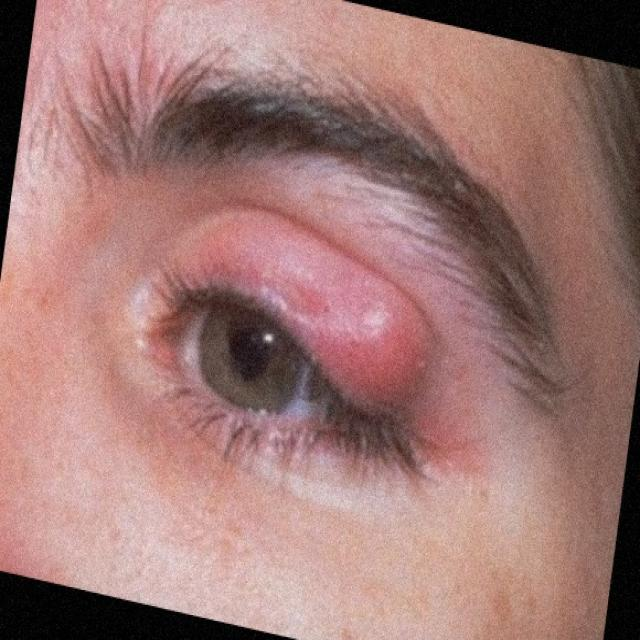Chalazion: (100, 164, 447, 496)
